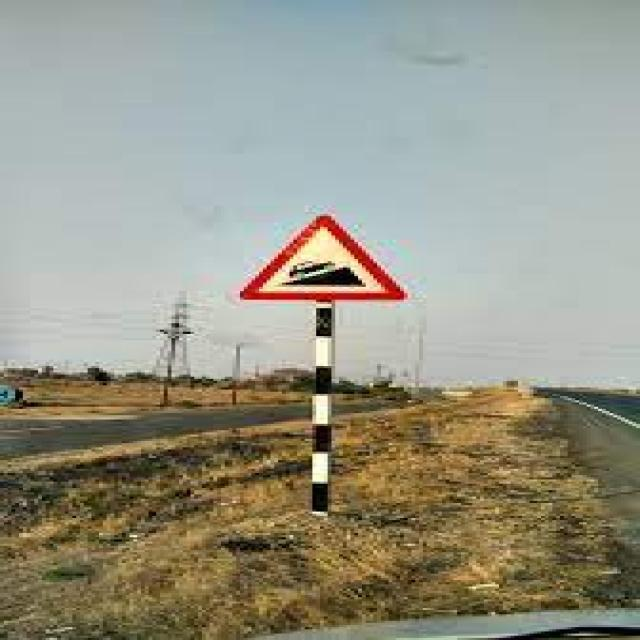steep ascent: (237, 213, 409, 303)
